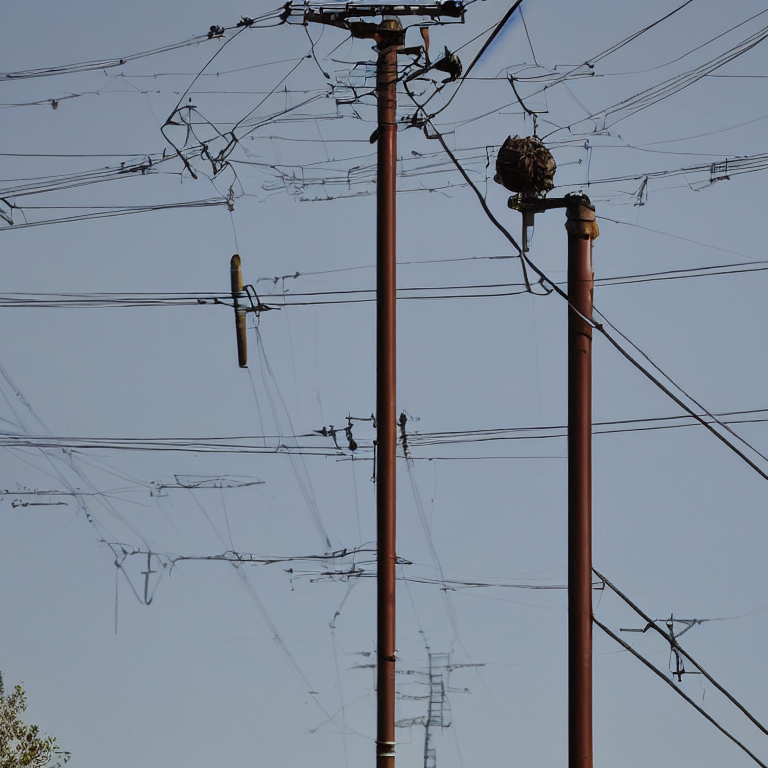nest: (495, 135, 555, 194)
